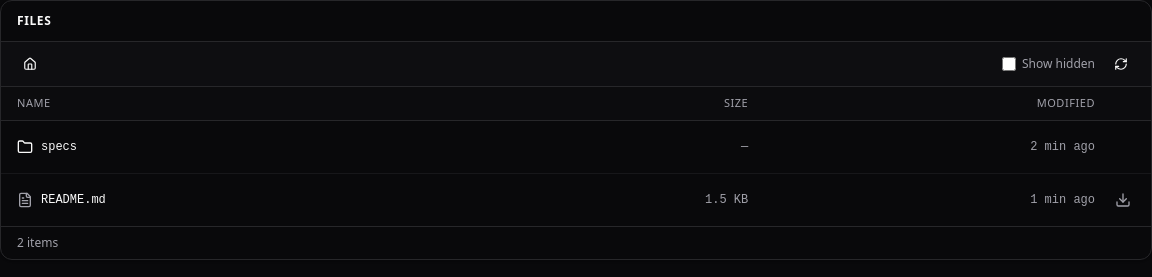
Test: FilesPanel › navigates up via .. and jumps via breadcrumb segments
expect the text "specs" is shown: met, box [41, 138, 77, 154]
Click the button "specs". click: (59,146)
box: [13, 128, 494, 164]
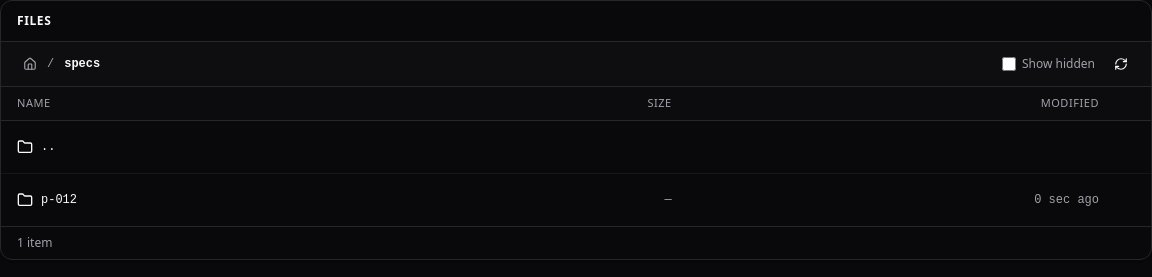
expect the text "p-012" is shown: met, box [41, 192, 77, 208]
Click the button "p-012". click: (59,200)
box: [13, 182, 458, 218]
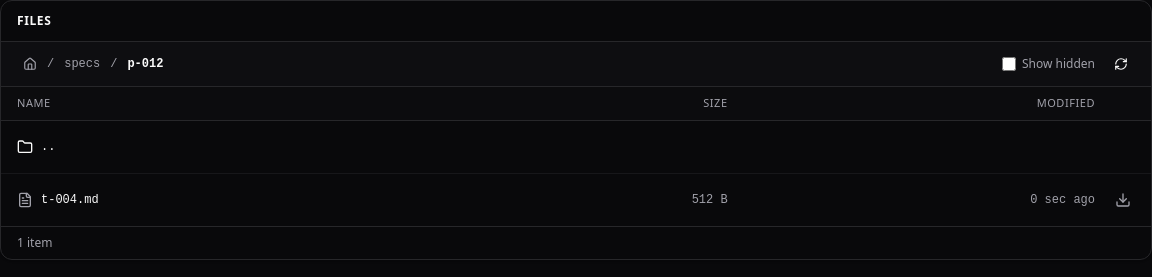
expect the text "t-004.md" is shown: met, box [41, 192, 99, 208]
Click the button "..". click: (25,146)
box: [13, 128, 1139, 164]
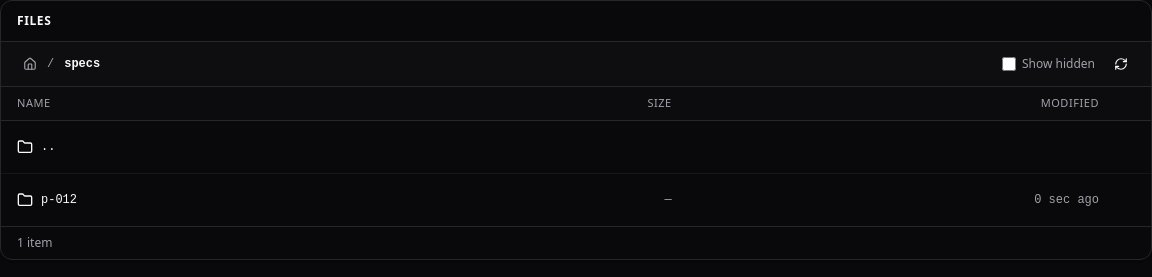
expect the text "p-012" is shown: met, box [41, 192, 77, 208]
Click the button "p-012". click: (59,200)
box: [13, 182, 458, 218]
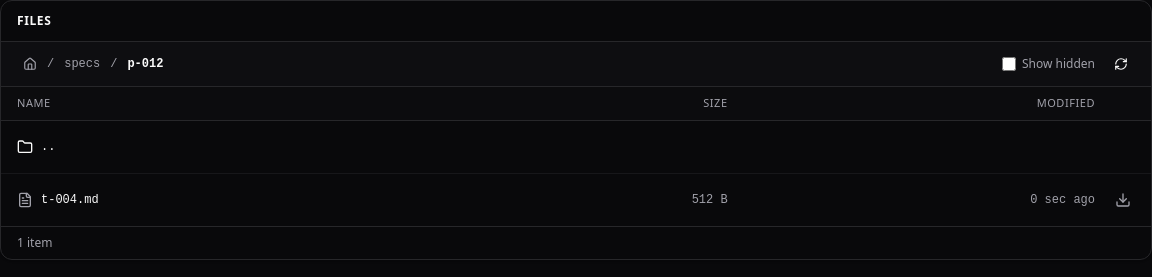
expect the text "t-004.md" is shown: met, box [41, 192, 99, 208]
Click the button named "Workspace root". click: (30,64)
box: [17, 50, 43, 78]
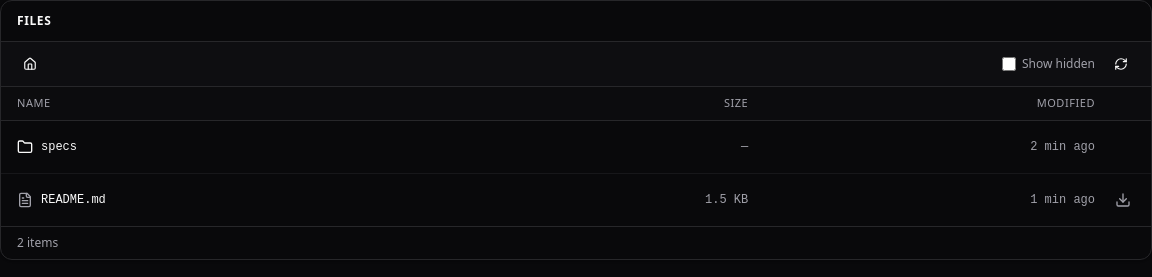
expect the text "README.md" is shown: met, box [41, 192, 106, 208]
